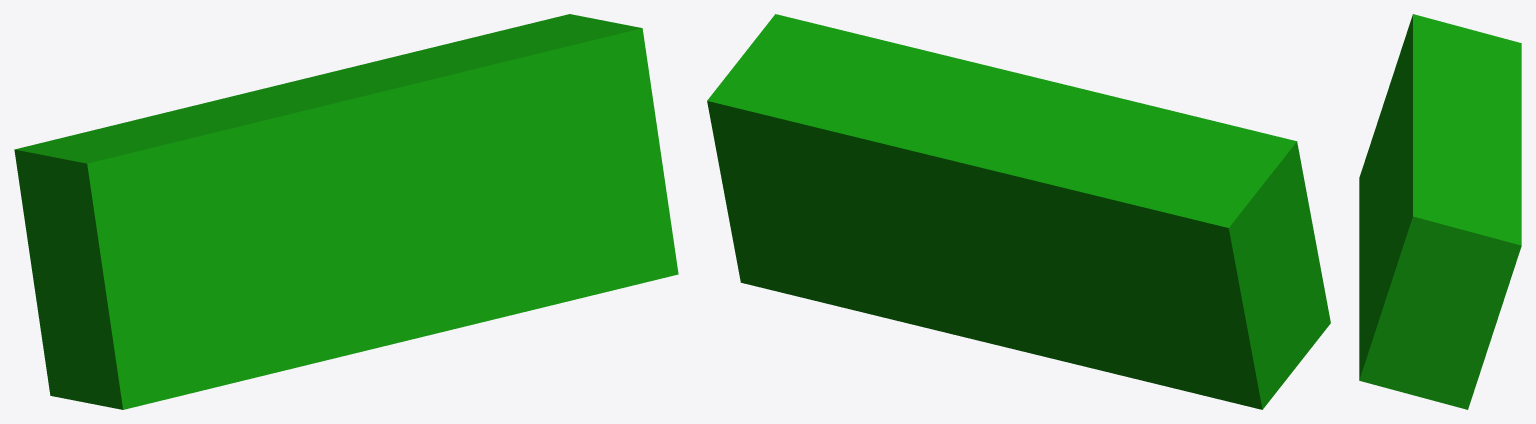
Rendered from boton03.FBX.
The picture shows the model from 3 angles, left to right: view 1: azimuth 30°, elevation 25°; view 2: azimuth 150°, elevation 25°; view 3: azimuth 270°, elevation 25°; orthographic projection. The views are drawn at different scales.
Parts seen in each view (by area): view 1: boton3; view 2: boton3; view 3: boton3.
Part boxes in pixels (x1=…): boton3: x1=14, y1=14, x2=678, y2=409; boton3: x1=707, y1=14, x2=1330, y2=409; boton3: x1=1359, y1=14, x2=1521, y2=409.
Bounding box in the file's own units: 1.73 × 0.7714 × 0.5871.
